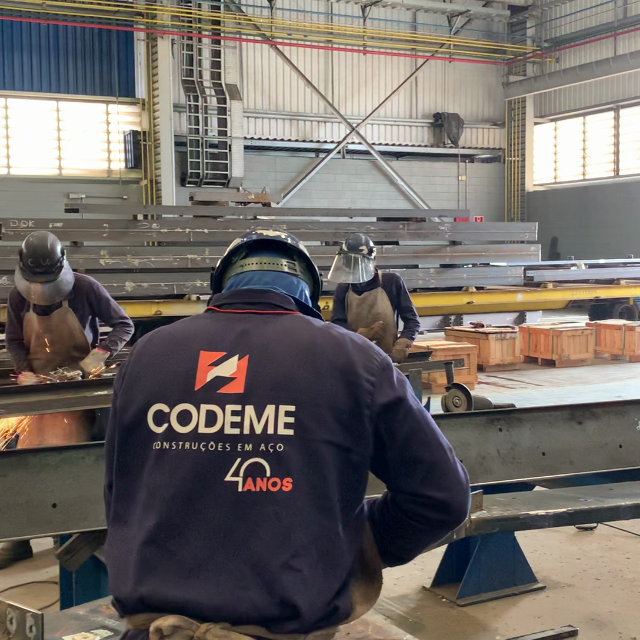face-shield: (13, 265, 74, 307), (325, 252, 379, 283)
glove: (79, 347, 110, 380), (389, 338, 414, 362)
helmet: (213, 227, 323, 307), (19, 230, 65, 285), (338, 234, 378, 260)
person: (101, 229, 472, 633), (6, 228, 135, 385), (327, 229, 418, 367)
